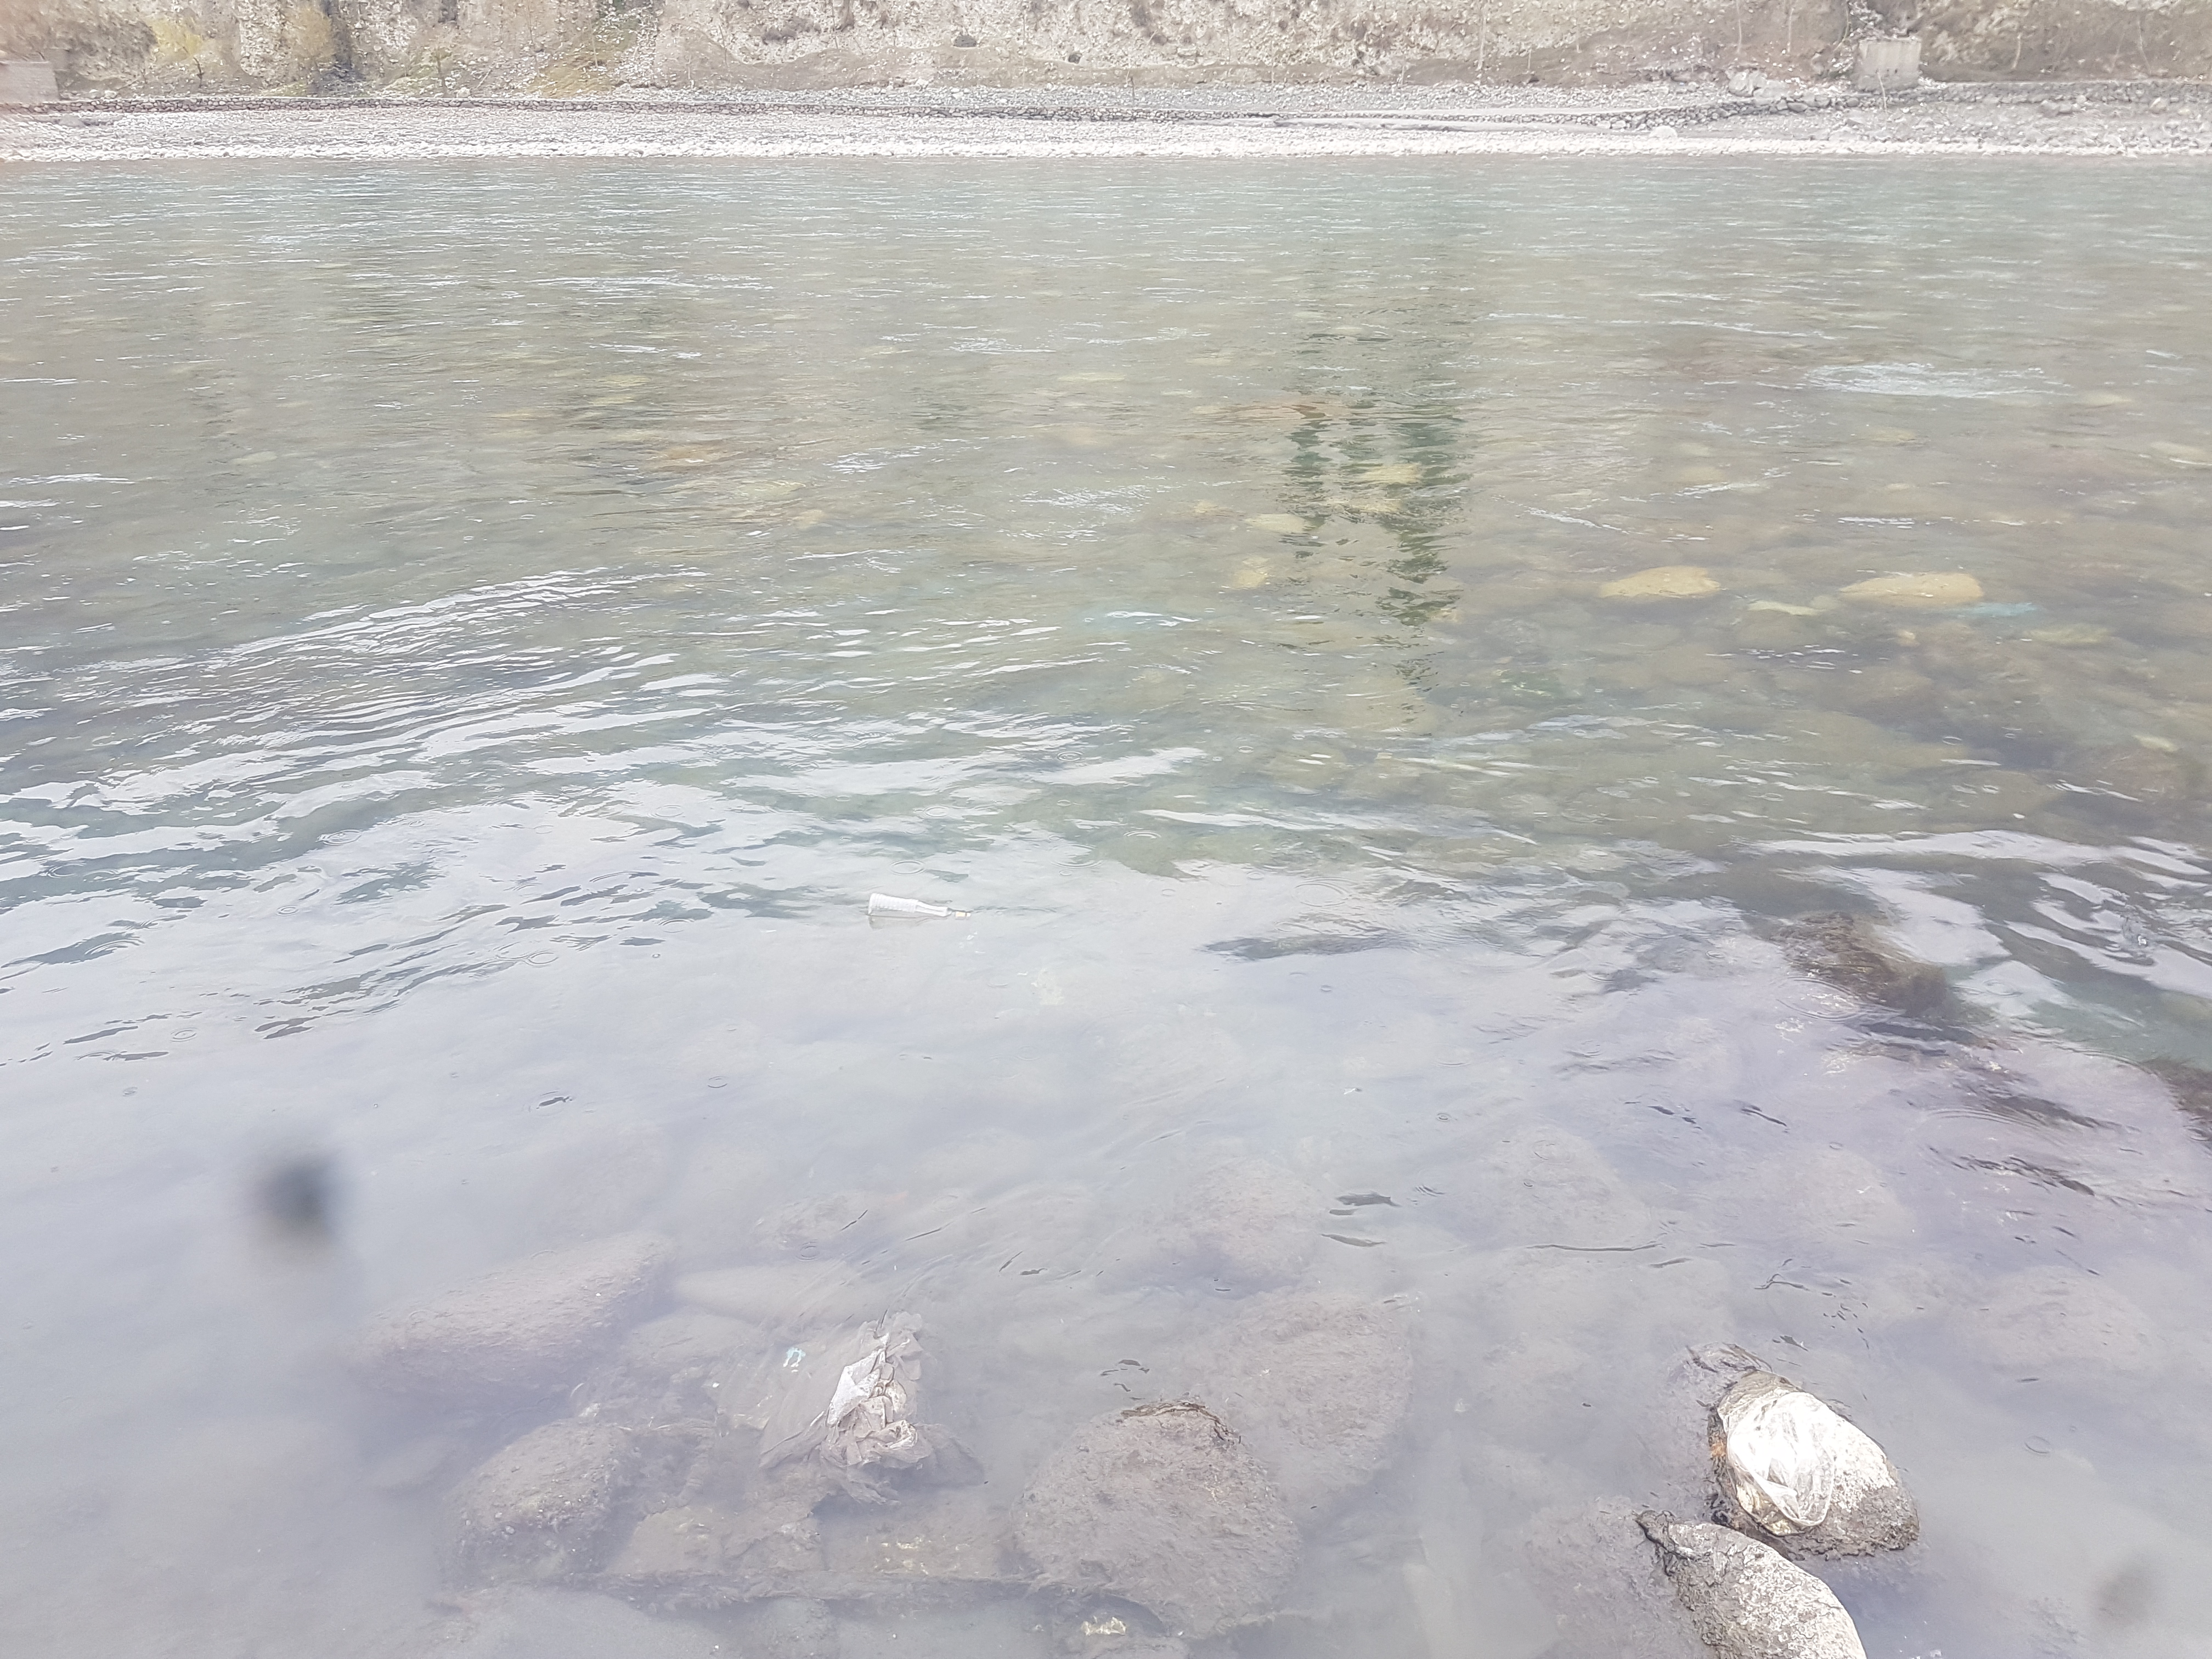Plastic Bottle: (867, 892, 970, 920)
